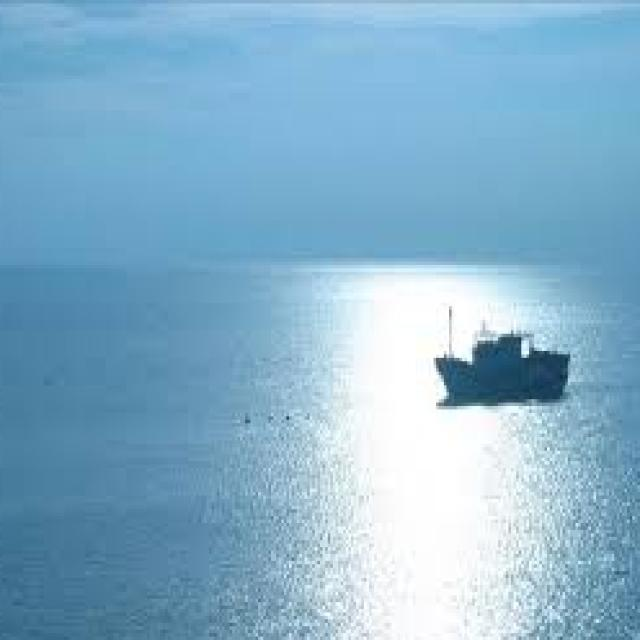fishing boat: (432, 310, 571, 396)
